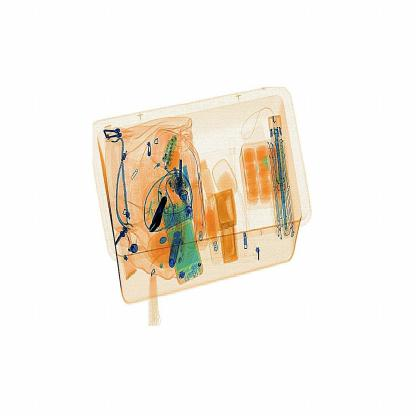knife: (144, 186, 170, 238)
